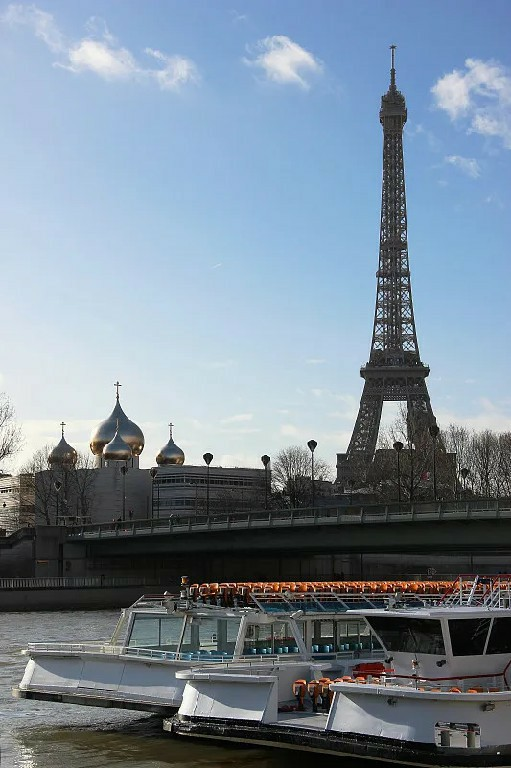Eiffel: (333, 43, 462, 490)
